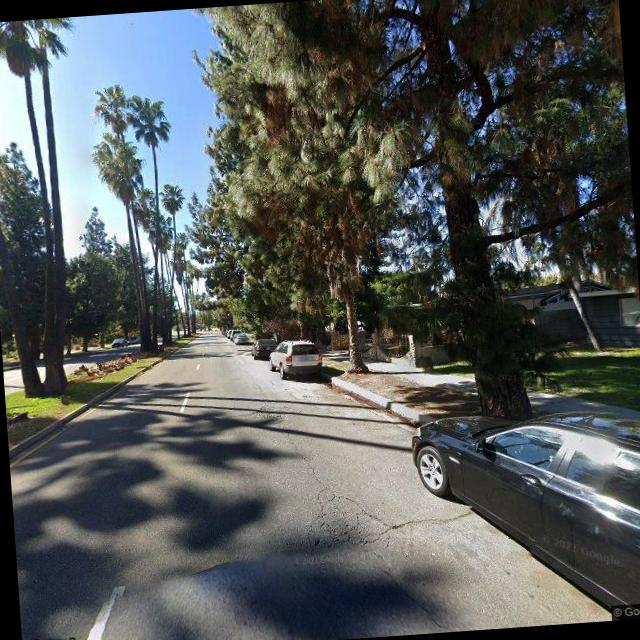crack: (292, 475, 413, 557), (246, 389, 317, 463), (390, 500, 480, 538)
